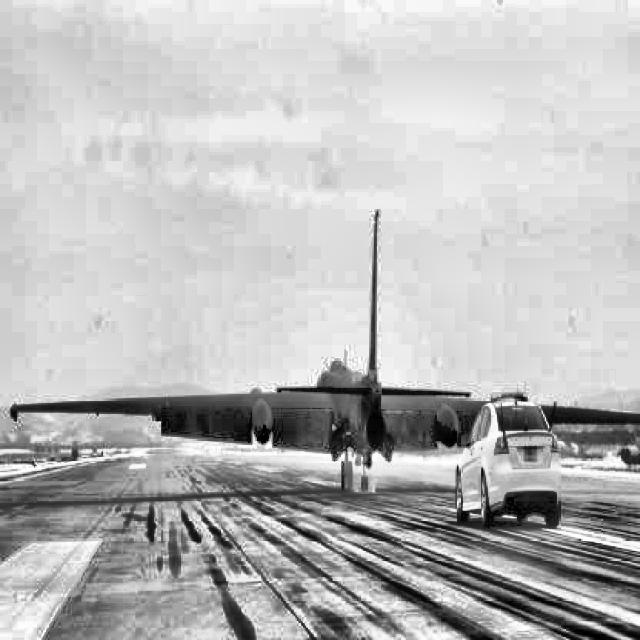U2: (9, 204, 638, 490)
